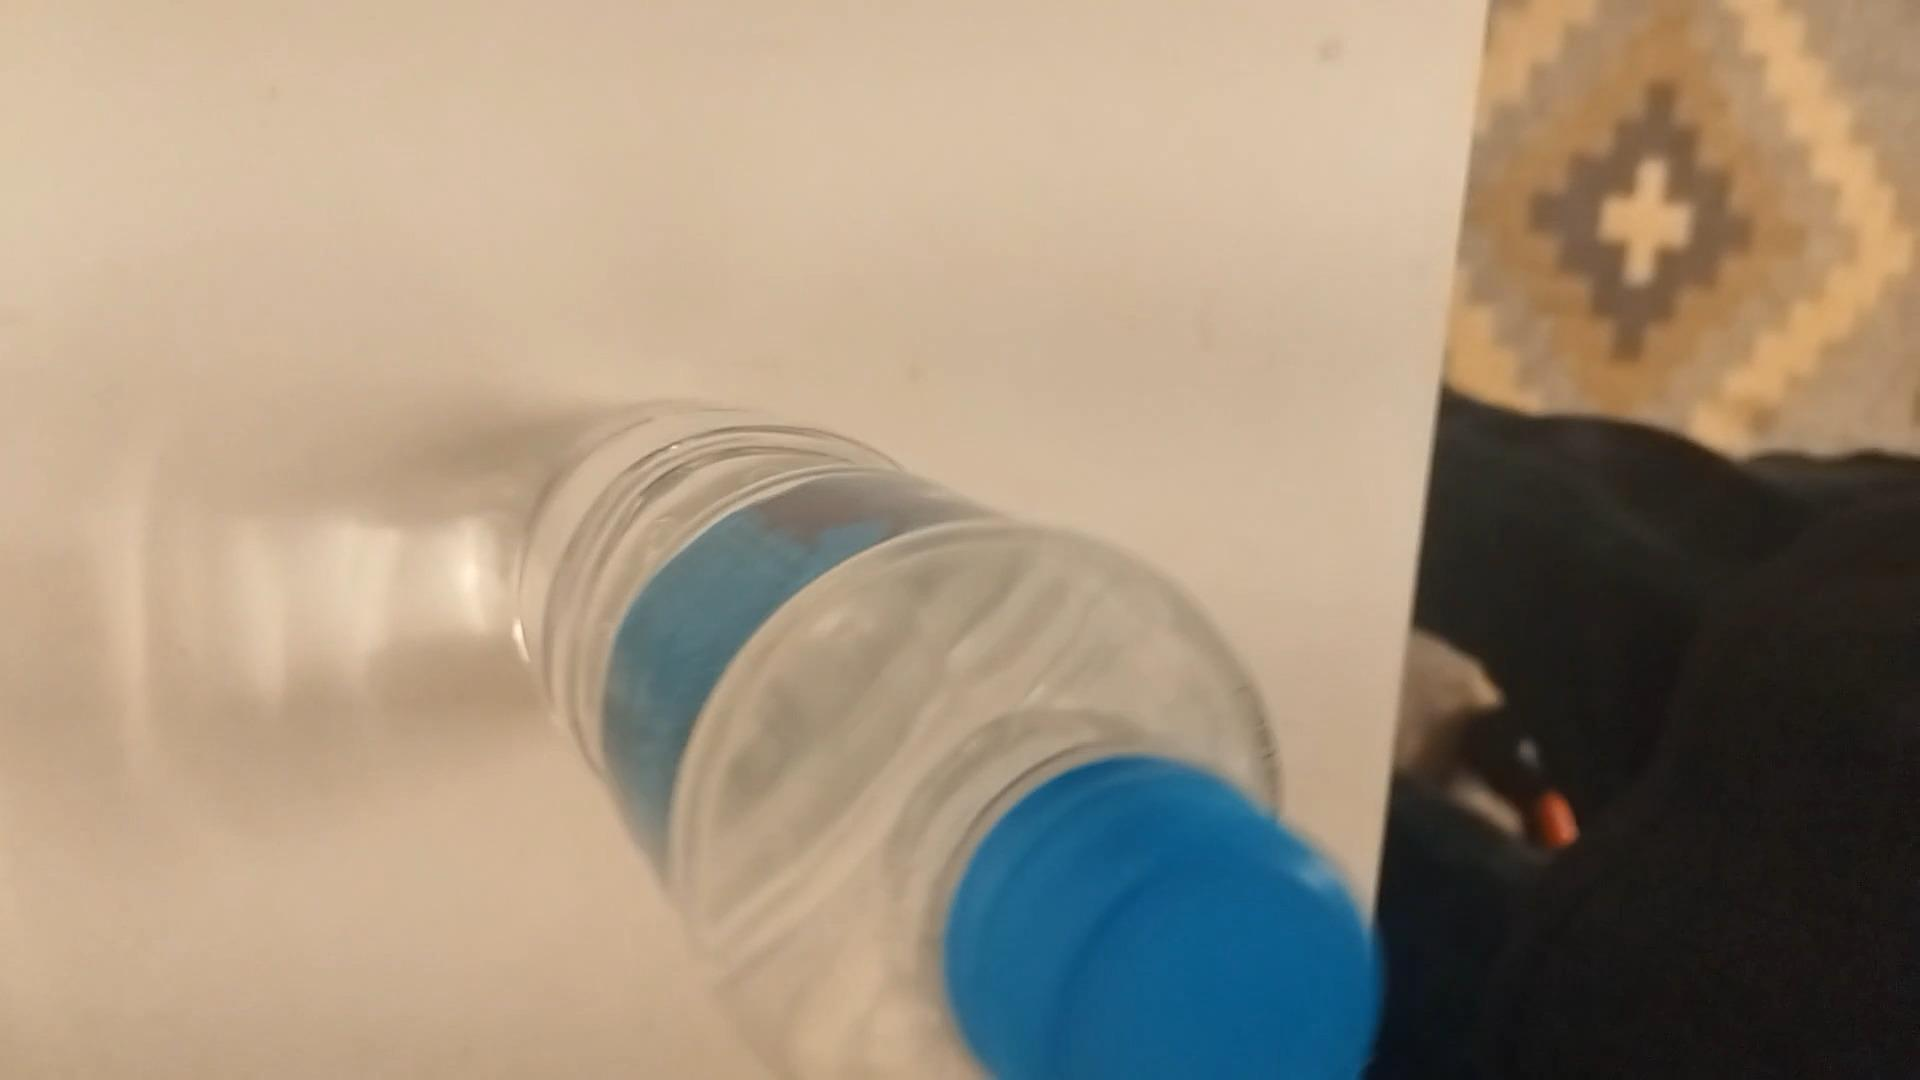agua: (525, 407, 1350, 1080)
